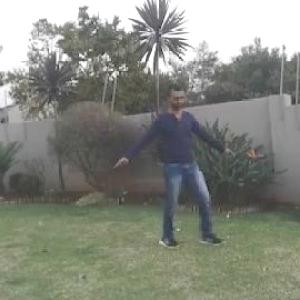land: (118, 92, 224, 228)
